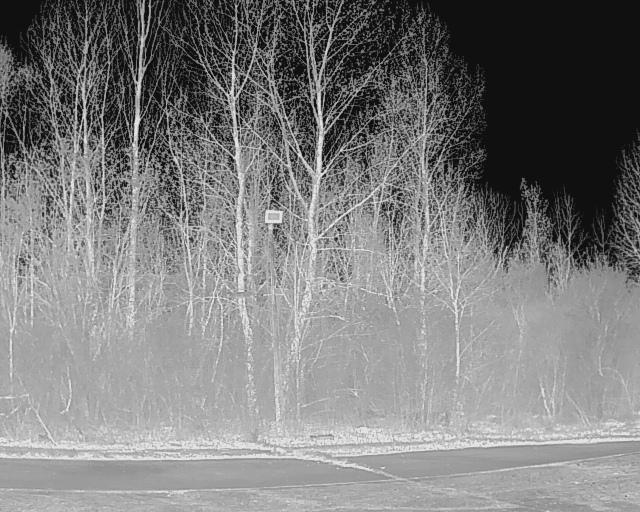drone: (217, 283, 273, 311)
